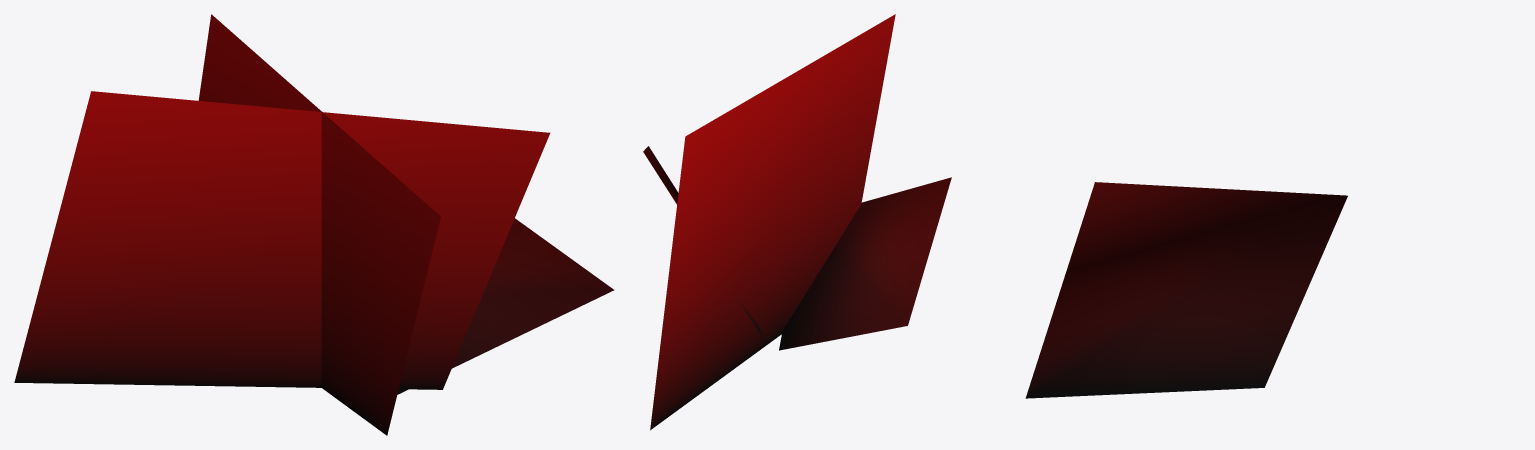
The picture shows the model from 3 angles, left to right: view 1: azimuth 30°, elevation 25°; view 2: azimuth 150°, elevation 25°; view 3: azimuth 270°, elevation 25°; orthographic projection. The views are drawn at different scales.
Parts seen in each view (by area): view 1: bladderWrack2.005; view 2: bladderWrack2.005; view 3: bladderWrack2.005.
Part boxes in pixels (x1=…): bladderWrack2.005: x1=14, y1=14, x2=614, y2=435; bladderWrack2.005: x1=643, y1=14, x2=951, y2=430; bladderWrack2.005: x1=1025, y1=182, x2=1347, y2=398.
Size of the model in its own units: 2.53 by 1.63 by 2.63.
